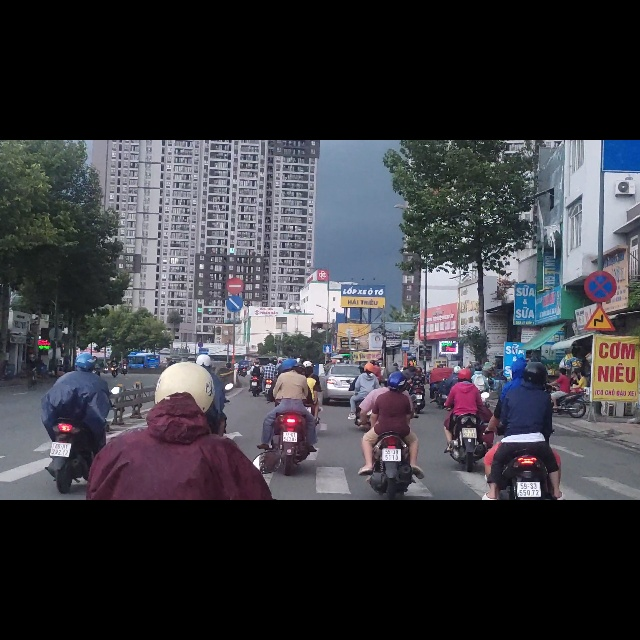bien_hieu_lenh: (584, 231, 618, 289), (583, 292, 616, 341), (226, 277, 244, 307), (226, 245, 244, 274), (401, 354, 410, 375), (323, 363, 333, 380)
